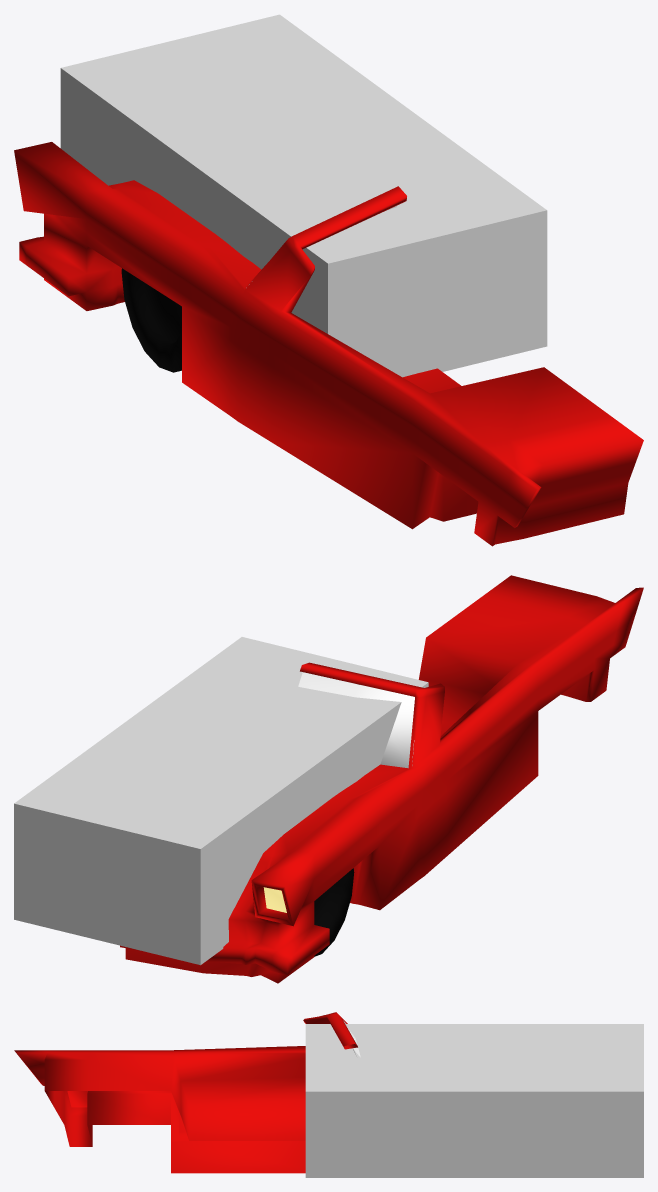
Rendered from car.glb.
3 views of the same model, one above another, from view 1: azimuth 30°, elevation 25°; view 2: azimuth 150°, elevation 25°; view 3: azimuth 270°, elevation 25° (orthographic). The views are drawn at different scales.
Parts seen in each view (by area): view 1: CarScale, Car, Cylinder; view 2: CarScale, Car, Cube, Cylinder; view 3: CarScale, Car.
Part boxes in pixels (x1,y1,x2,y2): CarScale: (60, 14, 547, 377); Car: (14, 142, 643, 546); Cylinder: (121, 268, 181, 372); CarScale: (14, 637, 428, 965); Car: (120, 575, 643, 983); Cube: (298, 672, 414, 768); Cylinder: (314, 868, 354, 956); CarScale: (305, 1024, 643, 1177); Car: (14, 1012, 357, 1173).
Size of the model in its own units: 4.49 by 3.35 by 13.25.
